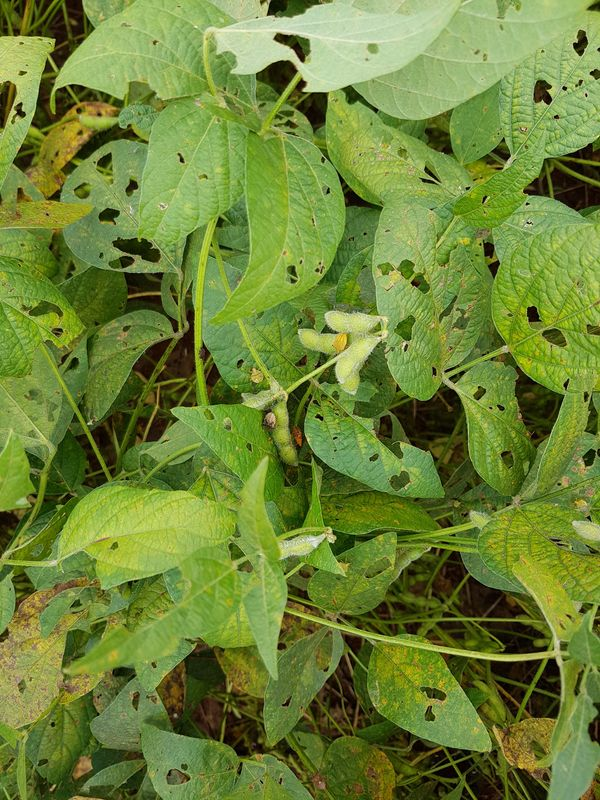Euschistus_heros_adulto: (306, 770, 331, 796), (288, 421, 308, 453)
Euschistus_heros_ninfa: (328, 330, 352, 356), (246, 365, 268, 386), (259, 410, 279, 433)
